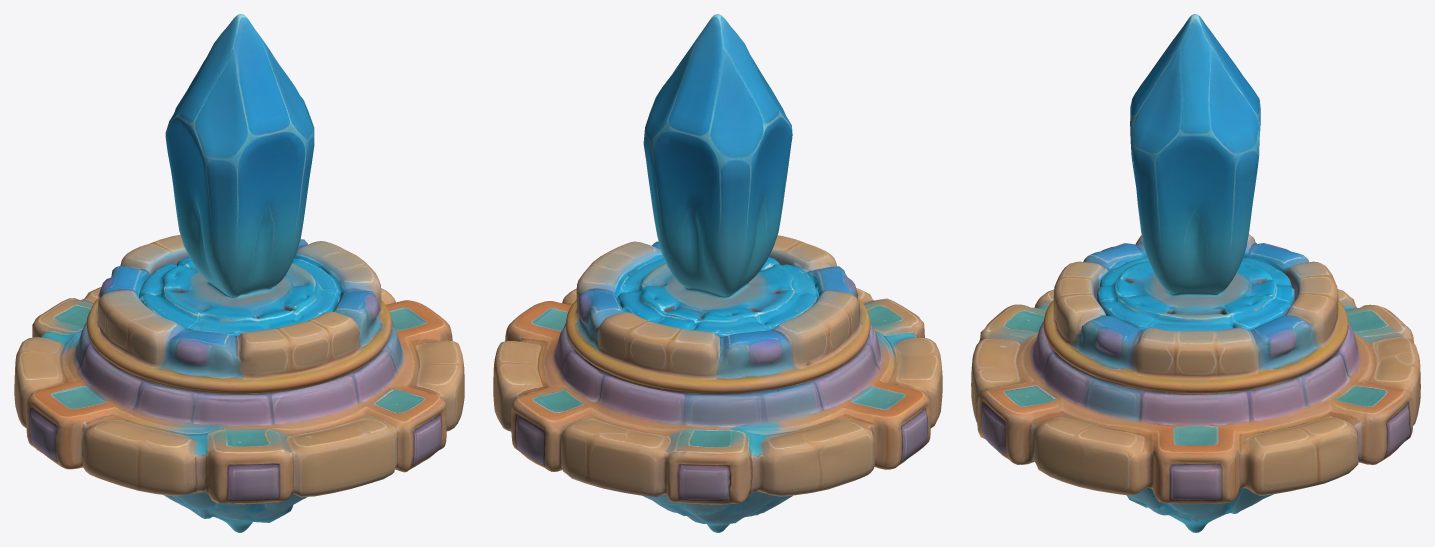
Rendered from 03-garden-crystal-shrine.glb.
The picture shows the model from 3 angles, left to right: view 1: azimuth 30°, elevation 25°; view 2: azimuth 150°, elevation 25°; view 3: azimuth 270°, elevation 25°; orthographic projection.
Visible parts, largest first — view 1: tripo_node_a104c581; view 2: tripo_node_a104c581; view 3: tripo_node_a104c581.
Part boxes in pixels (x1,y1,x2,y2): tripo_node_a104c581: (14,14,464,532); tripo_node_a104c581: (493,14,942,532); tripo_node_a104c581: (971,14,1420,532).
Size of the model in its own units: 0.1619 by 0.2 by 0.1574.
Materials: 1 (1 with a texture image).
